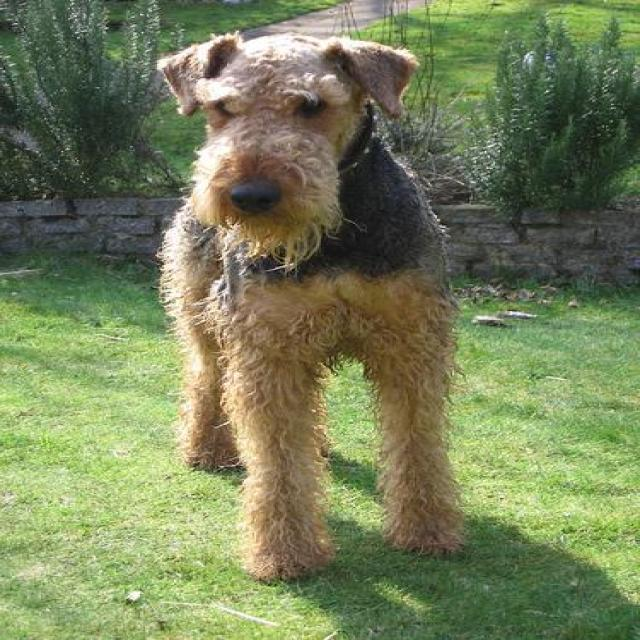airedale: (154, 29, 466, 582)
